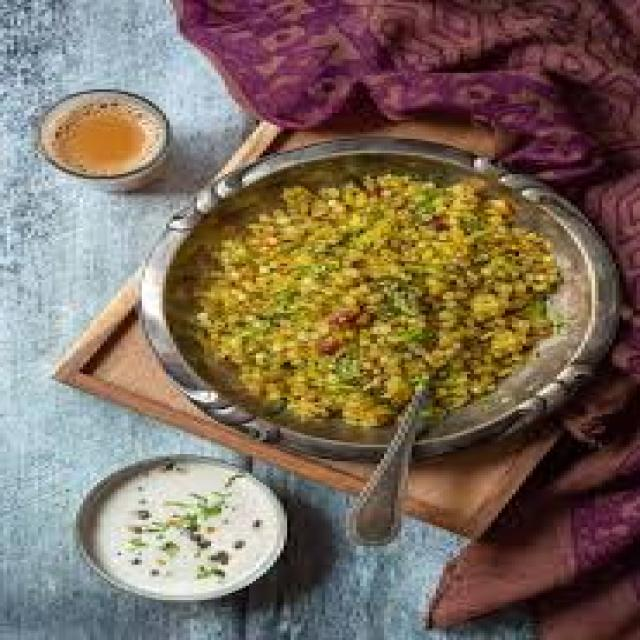POHA: (190, 169, 554, 421)
